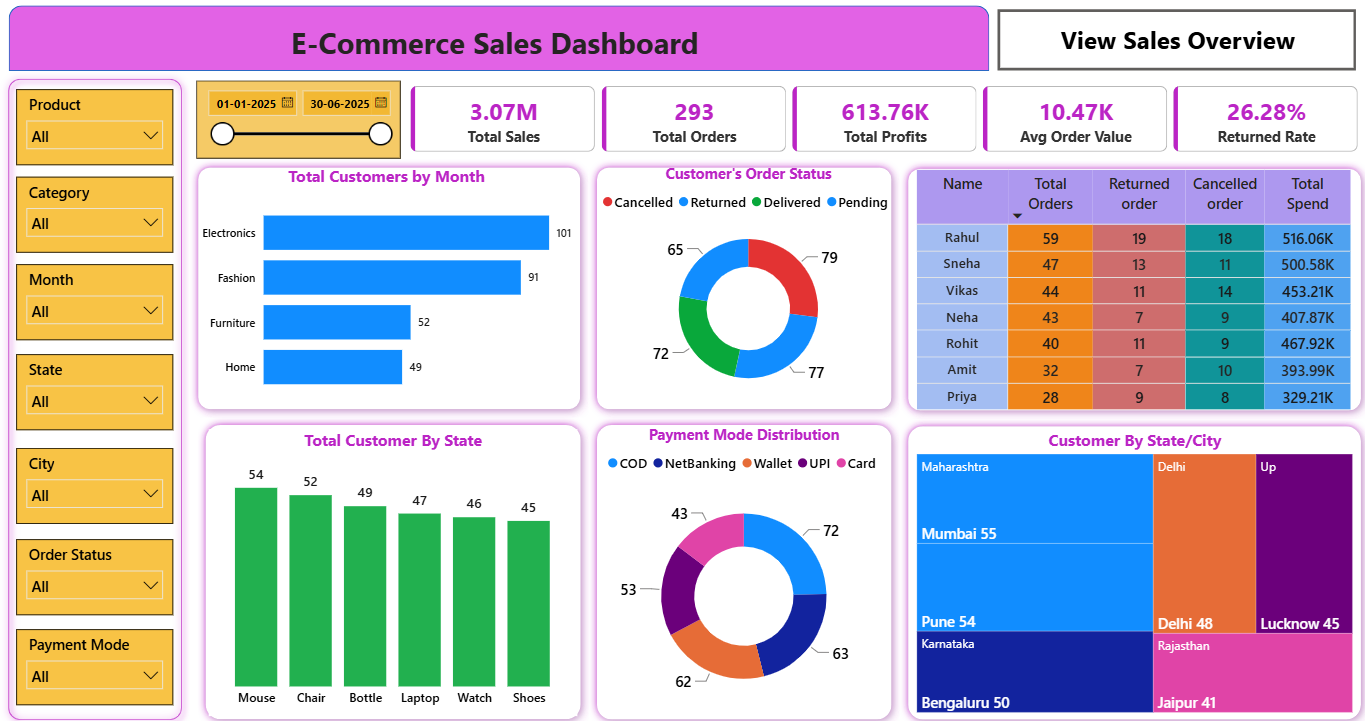

The dashboard page shown, as its layout file describes it:
{"tool":"powerbi","page":{"name":"Customer Insights","canvas":[1500,800],"ordinal":1},"visuals":[{"type":"shape","box":[985.9,177.5,514.1,283.1],"z":0},{"type":"shape","box":[985.9,460.6,514.1,339.4],"z":1000},{"type":"shape","box":[645.1,176.1,340.8,283.1],"z":2000},{"type":"shape","box":[208.5,176.1,436.6,283.1],"z":3000},{"type":"shape","box":[215.9,459.4,429,340.6],"z":4000},{"type":"cardVisual","fields":{"Data":["public ecommerce_sales.Total_sales","public ecommerce_sales.total_orderss","public ecommerce_sales.Total_profits","public ecommerce_sales.avg order_value","public ecommerce_sales.Returned Rate"]},"box":[440.8,87.3,1059.2,90.1],"z":5000},{"type":"shape","box":[9.9,8.5,1074.6,71.8],"z":6000},{"type":"textbox","box":[9.9,22.5,1074.6,57.7],"z":7000},{"type":"shape","box":[0,79.2,208.3,720.8],"z":8000},{"type":"slicer","fields":{"Values":["public ecommerce_sales.order_date"]},"box":[215.7,90,224.3,85.7],"z":9000},{"type":"pivotTable","title":"Job Satisfaction Rating","fields":{"Values":["public ecommerce_sales.total_orderss","public ecommerce_sales.Returned order","public ecommerce_sales.Cancelled order","public ecommerce_sales.Total_sales"],"Rows":["public ecommerce_sales.customer_name"]},"box":[1000,183.1,487.3,277.5],"z":10000},{"type":"shape","box":[645.1,459.2,340.8,340.8],"z":11000},{"type":"donutChart","title":"Payment Mode Distribution","fields":{"Category":["public ecommerce_sales.payment_mode"],"Y":["CountNonNull(public ecommerce_sales.customer_name)"]},"box":[654.9,467.6,321.1,323.9],"z":12000},{"type":"slicer","fields":{"Values":["public ecommerce_sales.order_status"]},"box":[18.3,593,171.8,83.1],"z":13000},{"type":"clusteredBarChart","title":"Total Customers by Month","fields":{"Y":["CountNonNull(public ecommerce_sales.customer_name)"],"Category":["public ecommerce_sales.category"]},"box":[215.5,183.1,416.9,266.2],"z":14000},{"type":"treemap","title":"Customer By State/City","fields":{"Group":["public ecommerce_sales.state"],"Details":["public ecommerce_sales.city"],"Values":["CountNonNull(public ecommerce_sales.customer_name)"]},"box":[1000,473.2,487.3,315.5],"z":15000},{"type":"clusteredColumnChart","title":"Total Customer By State","fields":{"Y":["CountNonNull(public ecommerce_sales.customer_name)"],"Category":["public ecommerce_sales.product"]},"box":[228.2,473.2,404.2,314.1],"z":16000},{"type":"donutChart","title":"Customer''s Order Status","fields":{"Y":["CountNonNull(public ecommerce_sales.customer_name)"],"Category":["public ecommerce_sales.order_status"]},"box":[654.9,180.3,331,266.2],"z":17000},{"type":"slicer","fields":{"Values":["public ecommerce_sales.product"]},"box":[18.3,100,171.8,83.1],"z":18000},{"type":"slicer","fields":{"Values":["public ecommerce_sales.category"]},"box":[18.3,196,171.8,83.1],"z":19000},{"type":"slicer","fields":{"Values":["public ecommerce_sales.month"]},"box":[18.3,292,171.8,83.1],"z":20000},{"type":"slicer","fields":{"Values":["public ecommerce_sales.state"]},"box":[18.3,391,171.8,83.1],"z":21000},{"type":"slicer","fields":{"Values":["public ecommerce_sales.city"]},"box":[18.3,493,171.8,83.1],"z":22000},{"type":"slicer","fields":{"Values":["public ecommerce_sales.payment_mode"]},"box":[18.3,691.5,171.8,83.1],"z":23000},{"type":"textbox","box":[1094.4,22.5,393,56.3],"z":24000},{"type":"actionButton","box":[1094.5,12.3,393.2,67.1],"z":25000}]}

Visuals, with their boxes in screenshot pixels (x1, y1, x2, y2), scaled from the page's 1500x800 canvas onto the 1365x721 screenshot:
shape: box(897, 160, 1364, 415)
shape: box(897, 415, 1364, 720)
shape: box(587, 159, 897, 414)
shape: box(190, 159, 587, 414)
shape: box(196, 414, 587, 720)
cardVisual - public ecommerce_sales.Total_sales x public ecommerce_sales.total_orderss: box(401, 79, 1364, 160)
shape: box(9, 8, 987, 72)
textbox: box(9, 20, 987, 72)
shape: box(0, 71, 190, 720)
slicer - public ecommerce_sales.order_date: box(196, 81, 400, 158)
"Job Satisfaction Rating" pivotTable: box(910, 165, 1353, 415)
shape: box(587, 414, 897, 720)
"Payment Mode Distribution" donutChart: box(596, 421, 888, 713)
slicer - public ecommerce_sales.order_status: box(17, 534, 173, 609)
"Total Customers by Month" clusteredBarChart: box(196, 165, 575, 405)
"Customer By State/City" treemap: box(910, 426, 1353, 711)
"Total Customer By State" clusteredColumnChart: box(208, 426, 575, 710)
"Customer''s Order Status" donutChart: box(596, 162, 897, 402)
slicer - public ecommerce_sales.product: box(17, 90, 173, 165)
slicer - public ecommerce_sales.category: box(17, 177, 173, 252)
slicer - public ecommerce_sales.month: box(17, 263, 173, 338)
slicer - public ecommerce_sales.state: box(17, 352, 173, 427)
slicer - public ecommerce_sales.city: box(17, 444, 173, 519)
slicer - public ecommerce_sales.payment_mode: box(17, 623, 173, 698)
textbox: box(996, 20, 1354, 71)
actionButton: box(996, 11, 1354, 72)
